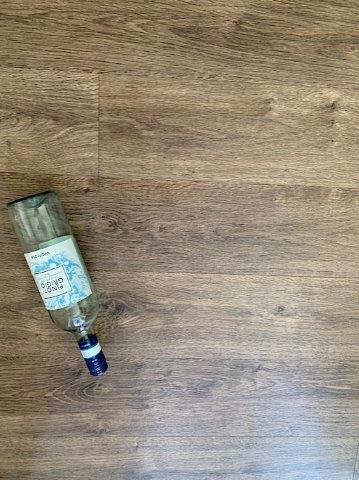botolkaca: (7, 192, 108, 376)
